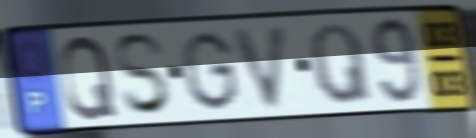9: (367, 13, 425, 108)
G: (178, 28, 242, 114)
Q: (307, 20, 376, 107), (58, 33, 120, 123)
S: (112, 30, 175, 119)
V: (230, 21, 292, 112)
